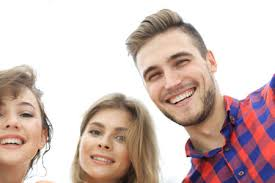face: (140, 48, 215, 119), (1, 97, 50, 164), (82, 120, 131, 171)
